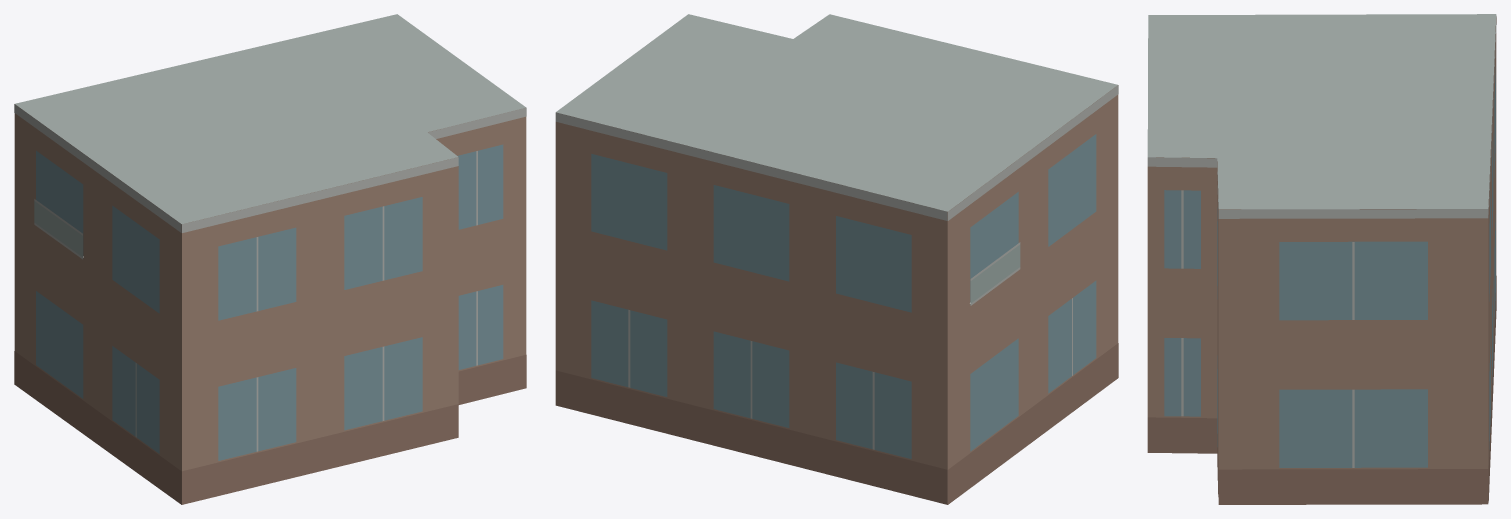
File: survey-upis-32624155.glb
The picture shows the model from 3 angles, left to right: view 1: azimuth 30°, elevation 25°; view 2: azimuth 150°, elevation 25°; view 3: azimuth 270°, elevation 25°; orthographic projection. The views are drawn at different scales.
Parts seen in each view (by area): view 1: survey-upis-32624155.tmp; view 2: survey-upis-32624155.tmp; view 3: survey-upis-32624155.tmp.
Boxes of the visible parts, x1,y1,x2,y2 form: survey-upis-32624155.tmp: (14, 14, 526, 504); survey-upis-32624155.tmp: (555, 14, 1118, 504); survey-upis-32624155.tmp: (1147, 14, 1496, 504).
Bounding box in the file's own units: 10.81 × 7.6 × 8.14.
